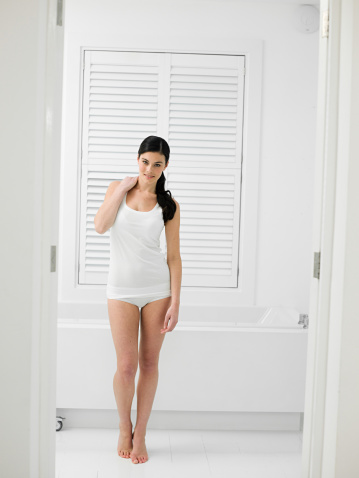em pe: (86, 139, 180, 441)
